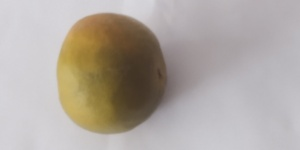BAD: (52, 7, 169, 137)
